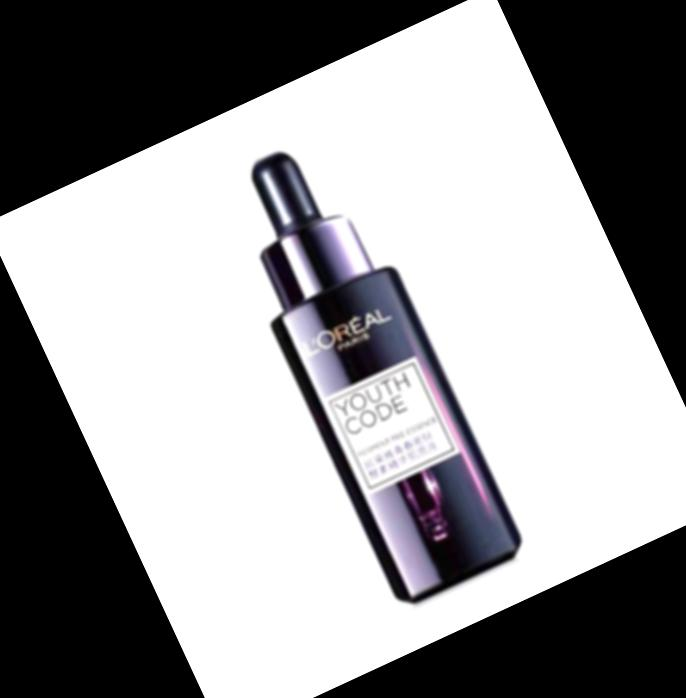cosmetic: (206, 127, 525, 608)
